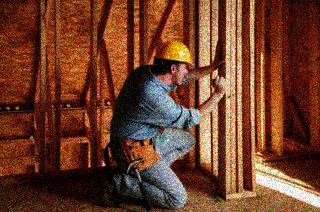helmet: (153, 40, 196, 86)
